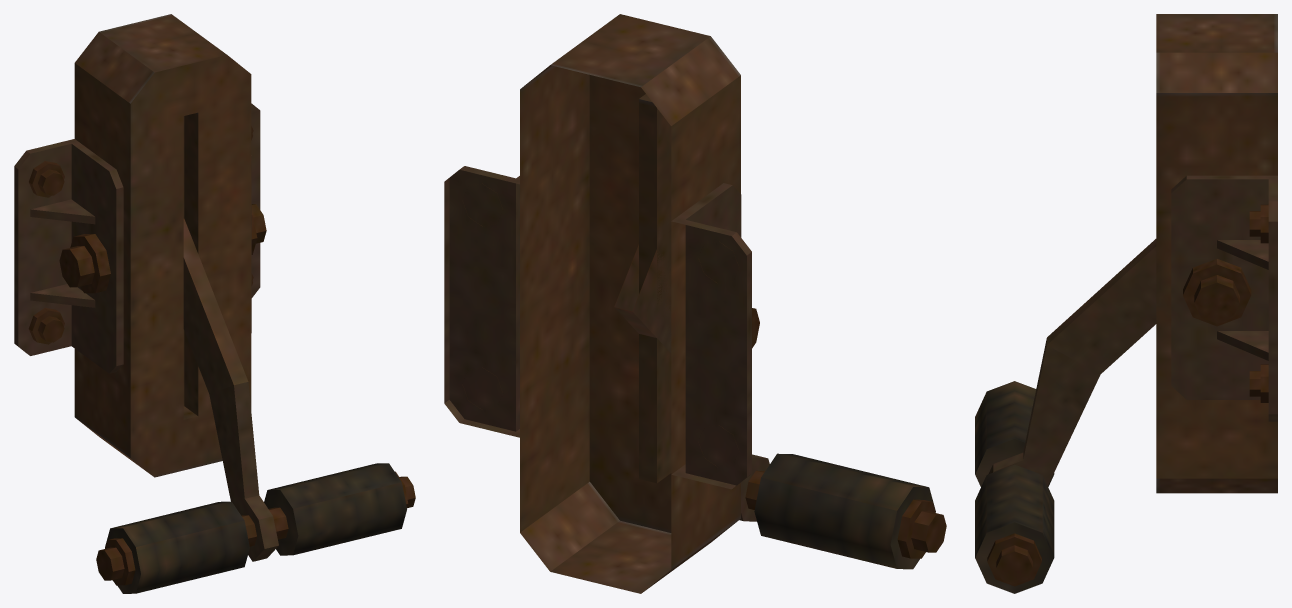
File: lever_etx_8.obj
3 renders of one model, left to right at view 1: azimuth 30°, elevation 25°; view 2: azimuth 150°, elevation 25°; view 3: azimuth 270°, elevation 25°, orthographic. The views are drawn at different scales.
Visible parts, largest first — view 1: lever_etx_8, lever_etx_8_child; view 2: lever_etx_8, lever_etx_8_child; view 3: lever_etx_8, lever_etx_8_child.
Part boxes in pixels (<box>): lever_etx_8: <box>14,14,266,477</box>; lever_etx_8_child: <box>96,218,415,593</box>; lever_etx_8: <box>444,14,759,593</box>; lever_etx_8_child: <box>614,244,946,569</box>; lever_etx_8: <box>1156,14,1277,493</box>; lever_etx_8_child: <box>975,239,1156,593</box>.
Bounding box in the file's own units: 0.2254 × 0.3201 × 0.1792.
